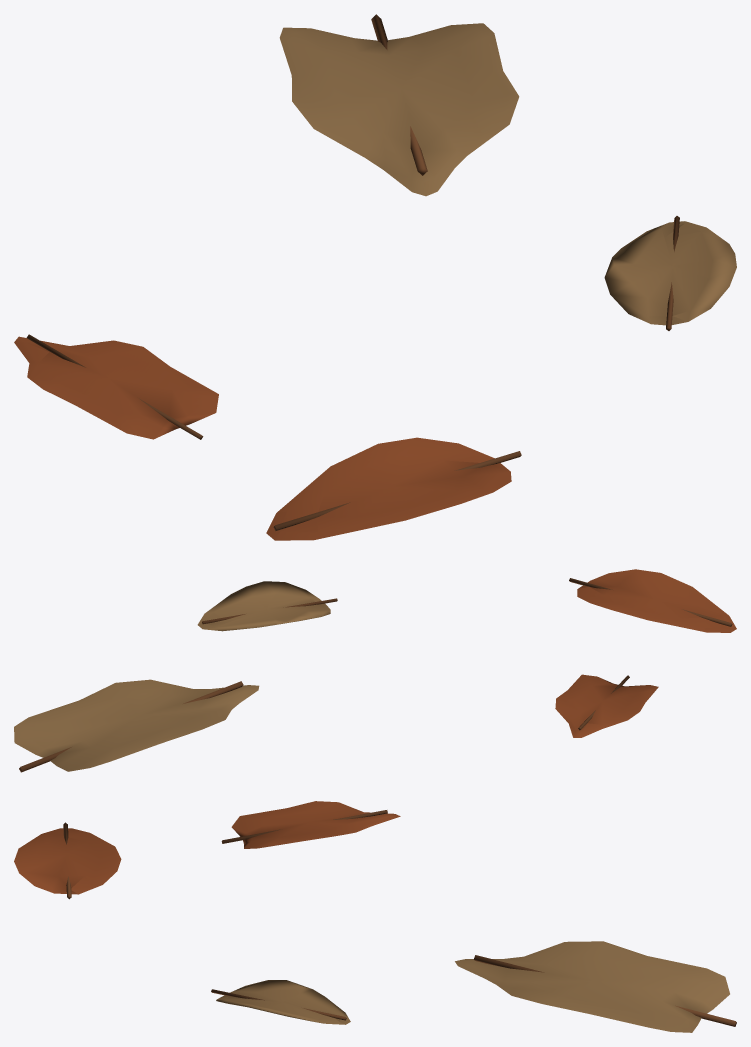
Rendered from mire_gc_leaves_a_lod1.glb.
The picture shows the model from 3 angles, top to bottom: view 1: azimuth 30°, elevation 25°; view 2: azimuth 150°, elevation 25°; view 3: azimuth 270°, elevation 25°; orthographic projection. The views are drawn at different scales.
Visible parts, largest first — view 1: mire_gc_leaves_a.001; view 2: mire_gc_leaves_a.001; view 3: mire_gc_leaves_a.001.
Part boxes in pixels (bbox=[...]): mire_gc_leaves_a.001: bbox=[14, 14, 736, 540]; mire_gc_leaves_a.001: bbox=[14, 569, 736, 772]; mire_gc_leaves_a.001: bbox=[14, 801, 736, 1032].
Bounding box in the file's own units: 3.82 × 0.2026 × 5.07.
